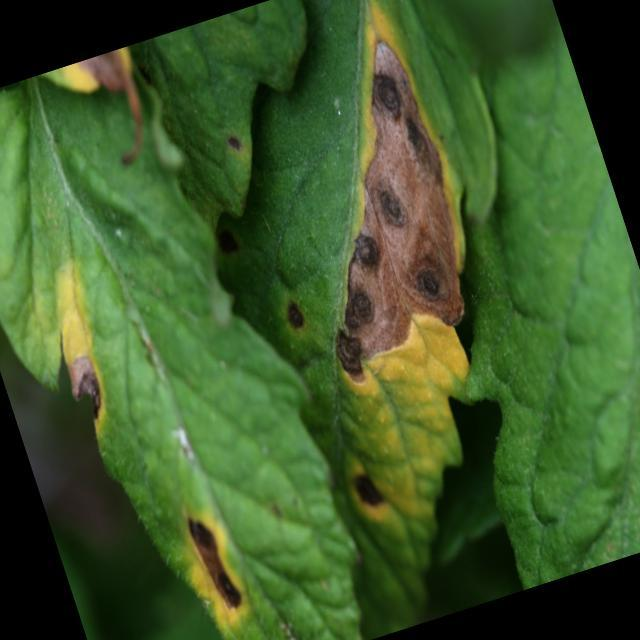Tomato late blight leaf: (120, 0, 638, 631), (0, 32, 397, 640)
